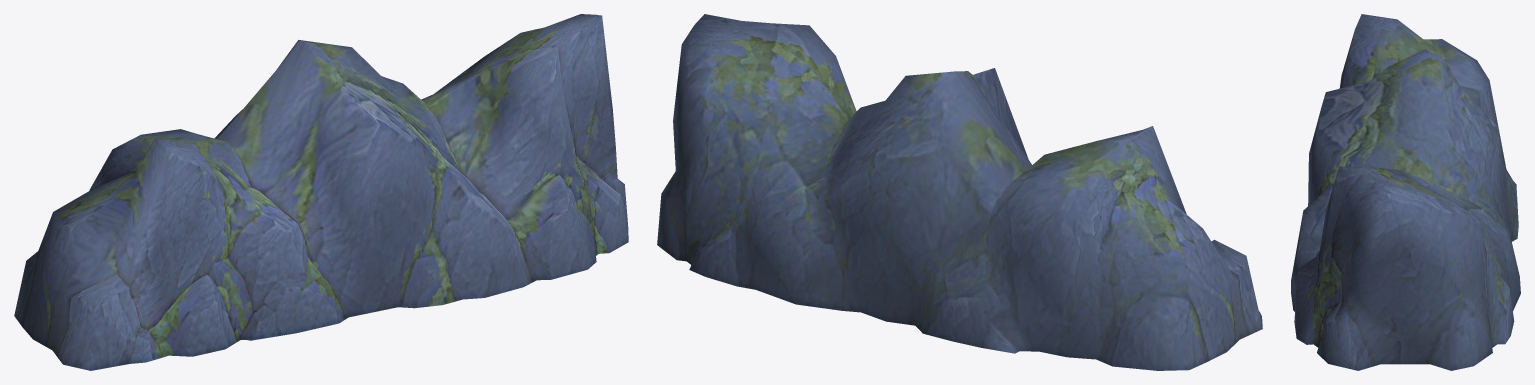
File: rock_wall_d.glb
The picture shows the model from 3 angles, left to right: view 1: azimuth 30°, elevation 25°; view 2: azimuth 150°, elevation 25°; view 3: azimuth 270°, elevation 25°; orthographic projection. The views are drawn at different scales.
Visible parts, largest first — view 1: tripo_node_b992fb79-174a-4924-95c2-07c922229d53; view 2: tripo_node_b992fb79-174a-4924-95c2-07c922229d53; view 3: tripo_node_b992fb79-174a-4924-95c2-07c922229d53.
Part boxes in pixels (x1=…): tripo_node_b992fb79-174a-4924-95c2-07c922229d53: x1=14, y1=14, x2=628, y2=370; tripo_node_b992fb79-174a-4924-95c2-07c922229d53: x1=657, y1=14, x2=1262, y2=370; tripo_node_b992fb79-174a-4924-95c2-07c922229d53: x1=1291, y1=14, x2=1520, y2=370.
Bounding box in the file's own units: 0.998 × 0.3809 × 0.4004.
1 material, 1 textured.
